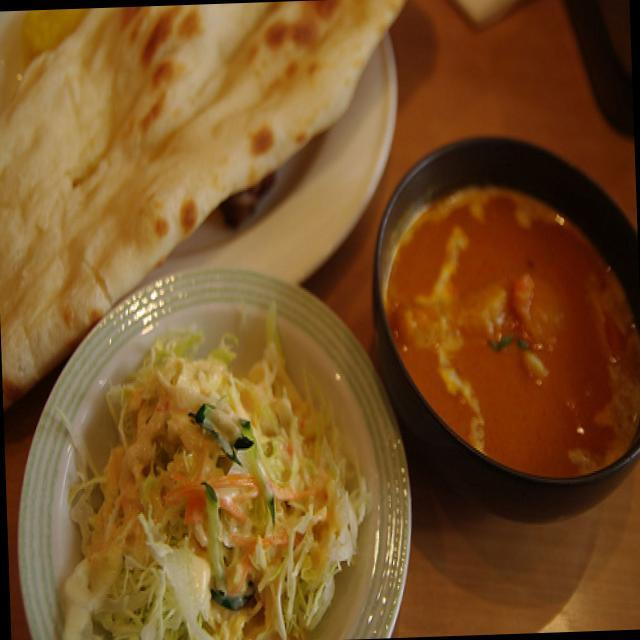Green Salad: (48, 336, 356, 640)
